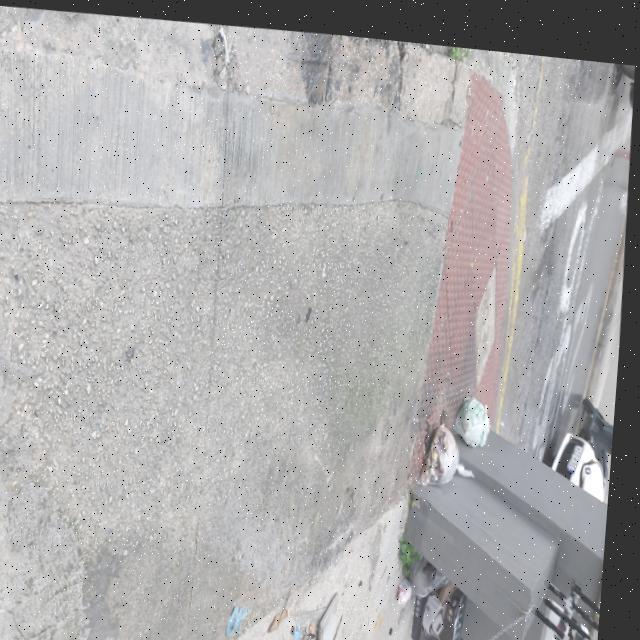Organic Waste -White Bag-: (424, 412, 468, 481), (457, 385, 497, 441)
Other: (397, 554, 474, 640)
